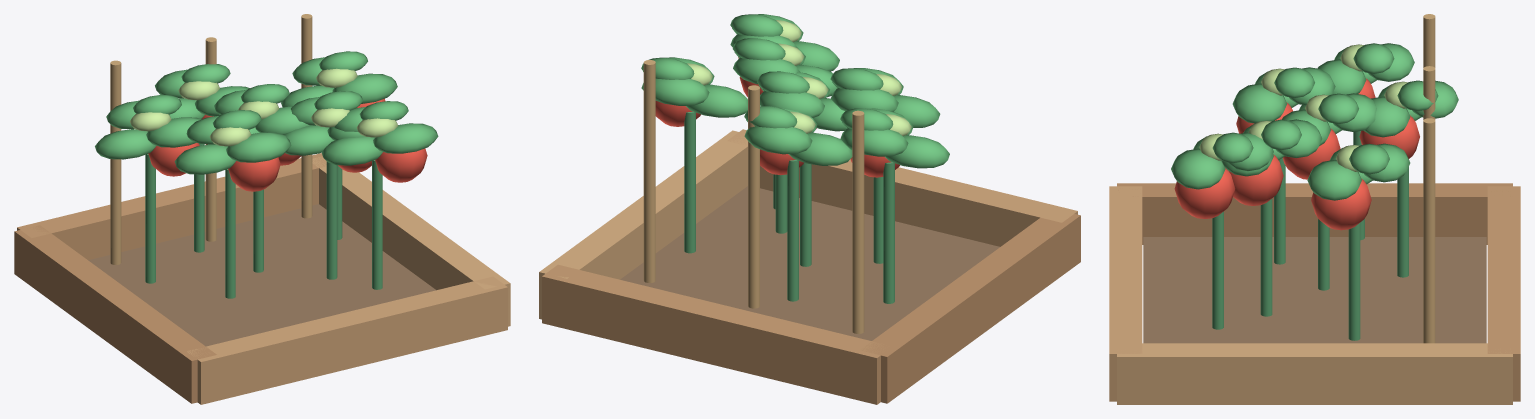
File: crop_tomato_late.glb
The picture shows the model from 3 angles, left to right: view 1: azimuth 30°, elevation 25°; view 2: azimuth 150°, elevation 25°; view 3: azimuth 270°, elevation 25°; orthographic projection. The views are drawn at different scales.
Bounding box in the file's own units: 0.935 × 0.64 × 0.935.
